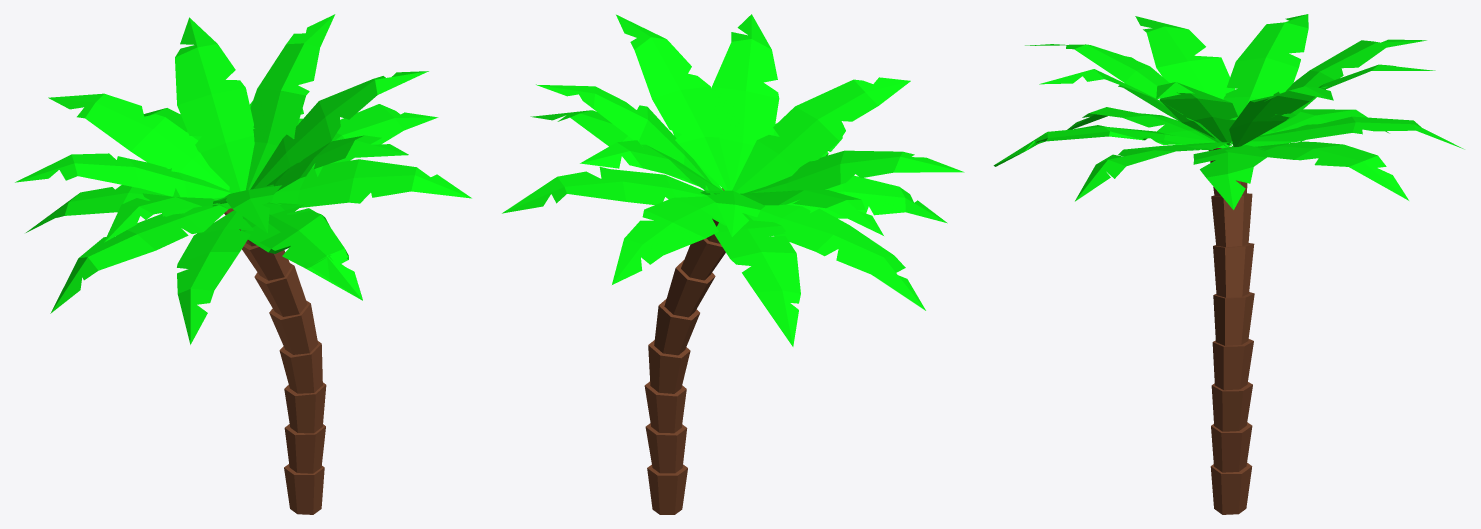
File: lowpoly_palm_tree.glb
3 renders of one model, left to right at view 1: azimuth 30°, elevation 25°; view 2: azimuth 150°, elevation 25°; view 3: azimuth 270°, elevation 25°, orthographic. The views are drawn at different scales.
Visible parts, largest first — view 1: Plane.002_1, Cylinder_0; view 2: Plane.002_1, Cylinder_0; view 3: Plane.002_1, Cylinder_0.
Part boxes in pixels (box(x1,y1,x2,y2)): Plane.002_1: box(15, 14, 471, 344); Cylinder_0: box(224, 208, 326, 514); Plane.002_1: box(502, 14, 964, 346); Cylinder_0: box(644, 188, 725, 514); Plane.002_1: box(993, 14, 1464, 209); Cylinder_0: box(1209, 146, 1254, 514).
Bounding box in the file's own units: 19.77 × 21.42 × 20.26.
